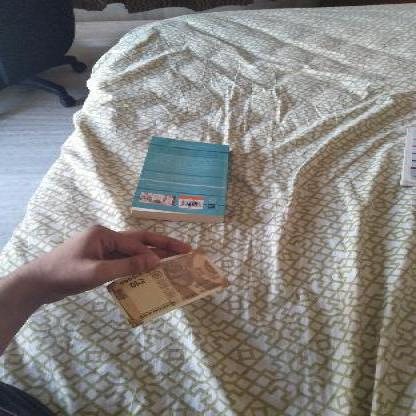New10Front: (107, 248, 229, 328)
